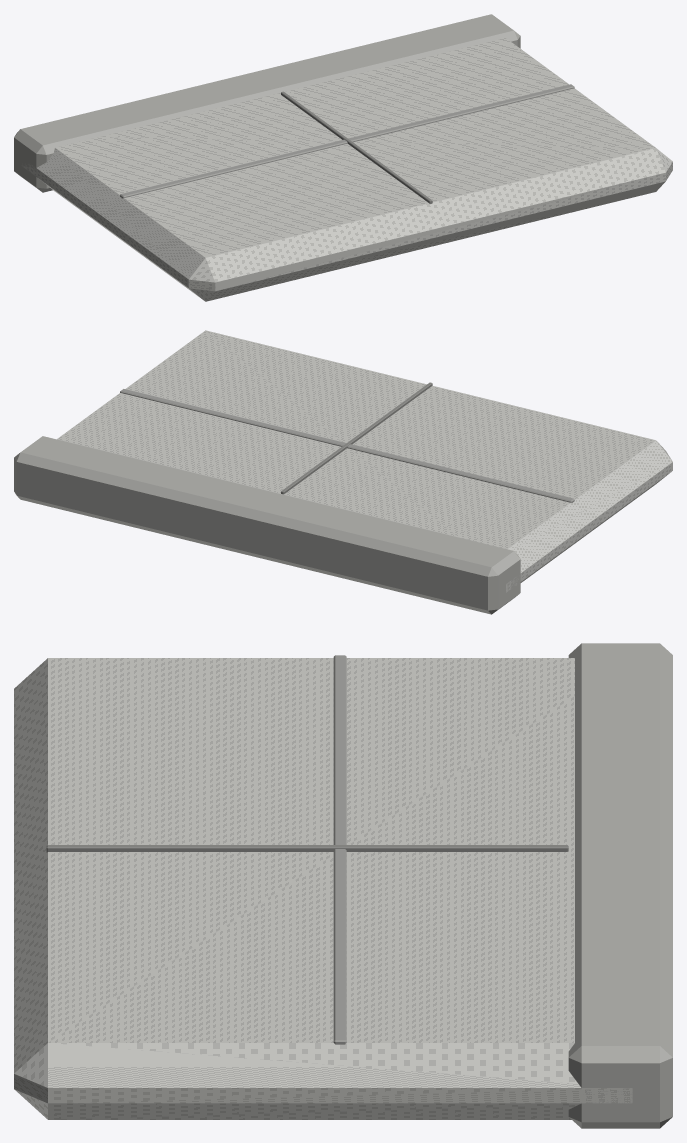
Rendered from long_underpants.glb.
3 views of the same model, one above another, from view 1: azimuth 30°, elevation 25°; view 2: azimuth 150°, elevation 25°; view 3: azimuth 270°, elevation 25° (orthographic). The views are drawn at different scales.
Parts seen in each view (by area): view 1: block_body, block_waist, block_fold, block_seam; view 2: block_body, block_waist, block_fold, block_seam; view 3: block_body, block_waist, block_fold, block_seam.
Boxes of the visible parts, bbox=[...] form: block_body: bbox=[21, 38, 672, 301]; block_waist: bbox=[14, 14, 520, 192]; block_fold: bbox=[120, 84, 574, 198]; block_seam: bbox=[281, 91, 432, 203]; block_body: bbox=[57, 330, 672, 592]; block_waist: bbox=[14, 436, 520, 614]; block_fold: bbox=[120, 389, 574, 502]; block_seam: bbox=[281, 382, 432, 494]; block_body: bbox=[14, 658, 632, 1119]; block_waist: bbox=[568, 643, 672, 1128]; block_fold: bbox=[333, 655, 346, 1044]; block_seam: bbox=[46, 845, 568, 852].
Bounding box in the file's own units: 0.3 × 0.028 × 0.202.
Materials: 1 (1 with a texture image).
